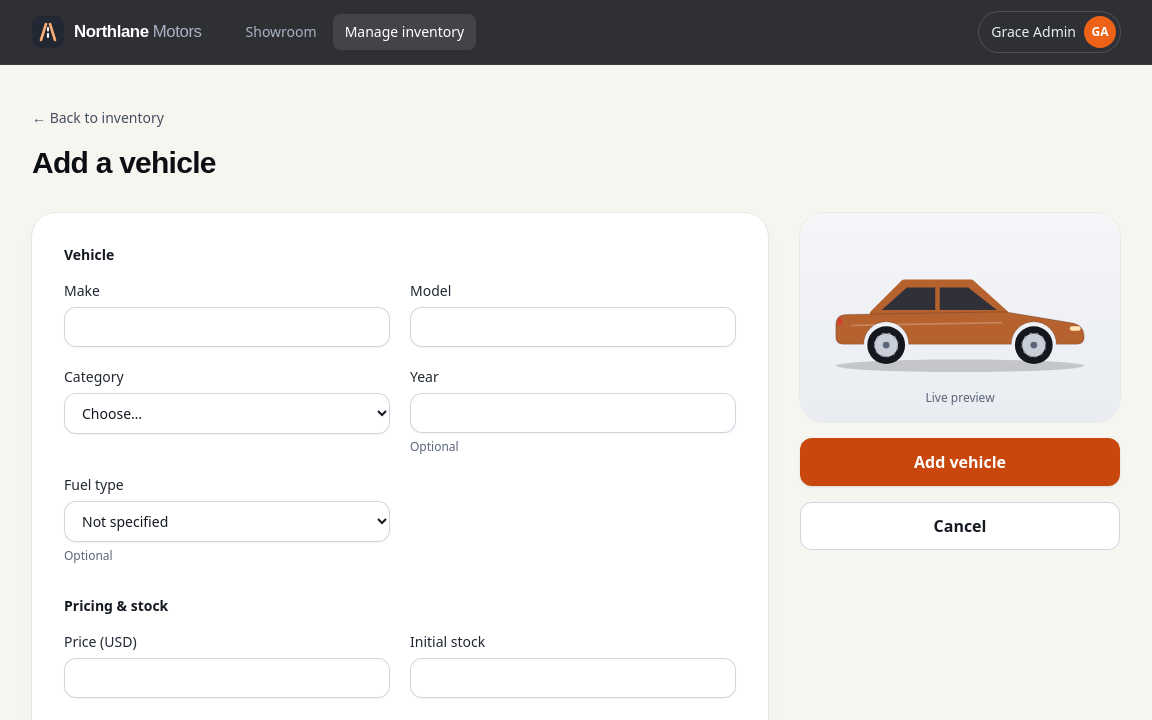
VehicleFormPage — add › shows server-side validation errors next to the right fields
Type "Kia" into the field labelled "Make" at (227, 327), box [64,307,390,347]
Type "EV9" into the field labelled "Model" at (573, 327), box [410,307,736,347]
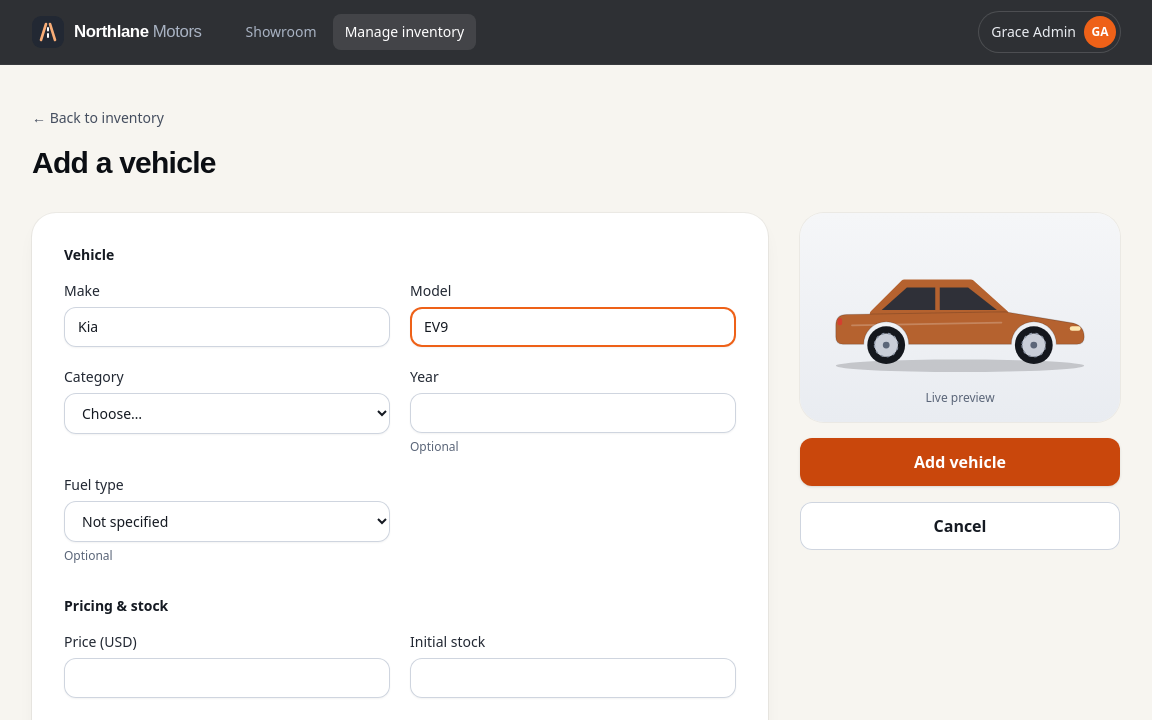
Select "SUV" in the dropdown labelled "Category" at (227, 414), box [64,393,390,434]
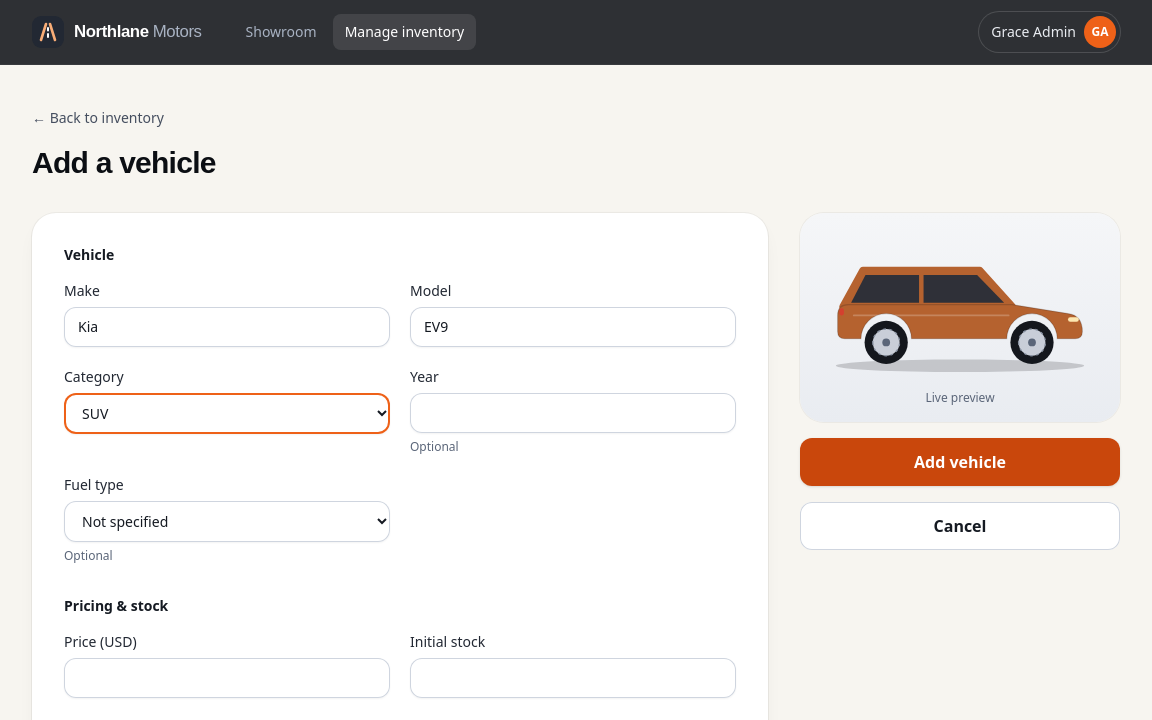
Type "50000" into the number field labelled "Price (USD)" at (227, 678), box [64,658,390,698]
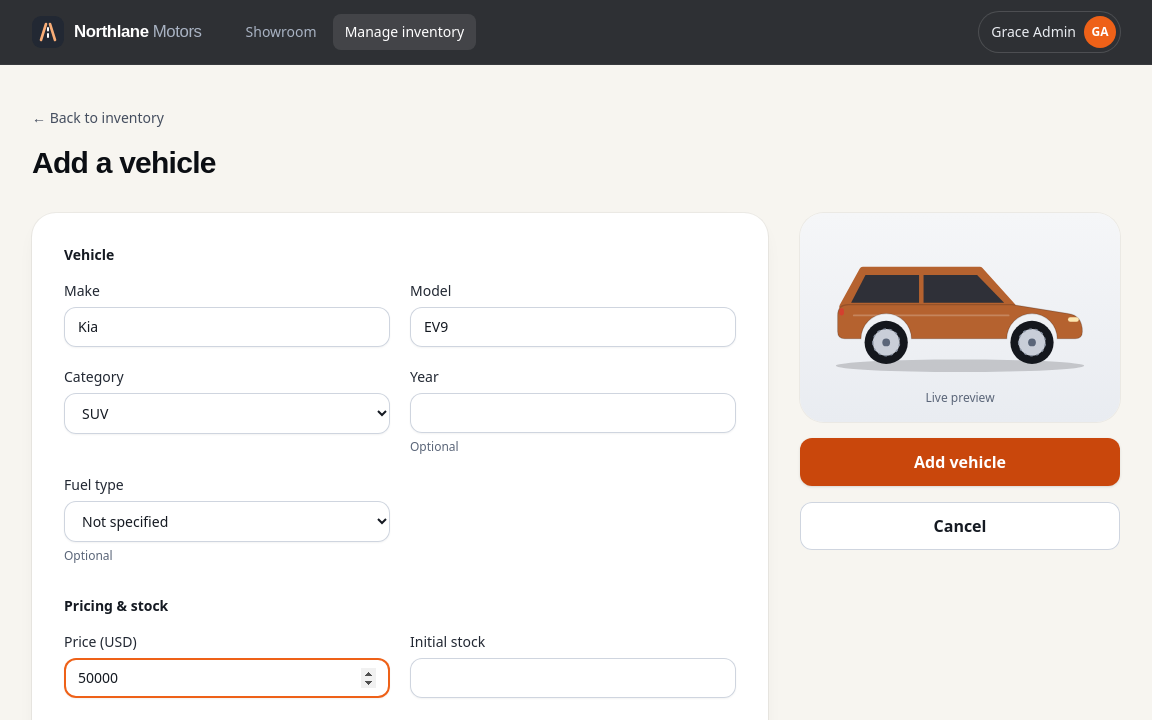
Type "1" into the number field labelled "Initial stock" at (573, 678), box [410,658,736,698]
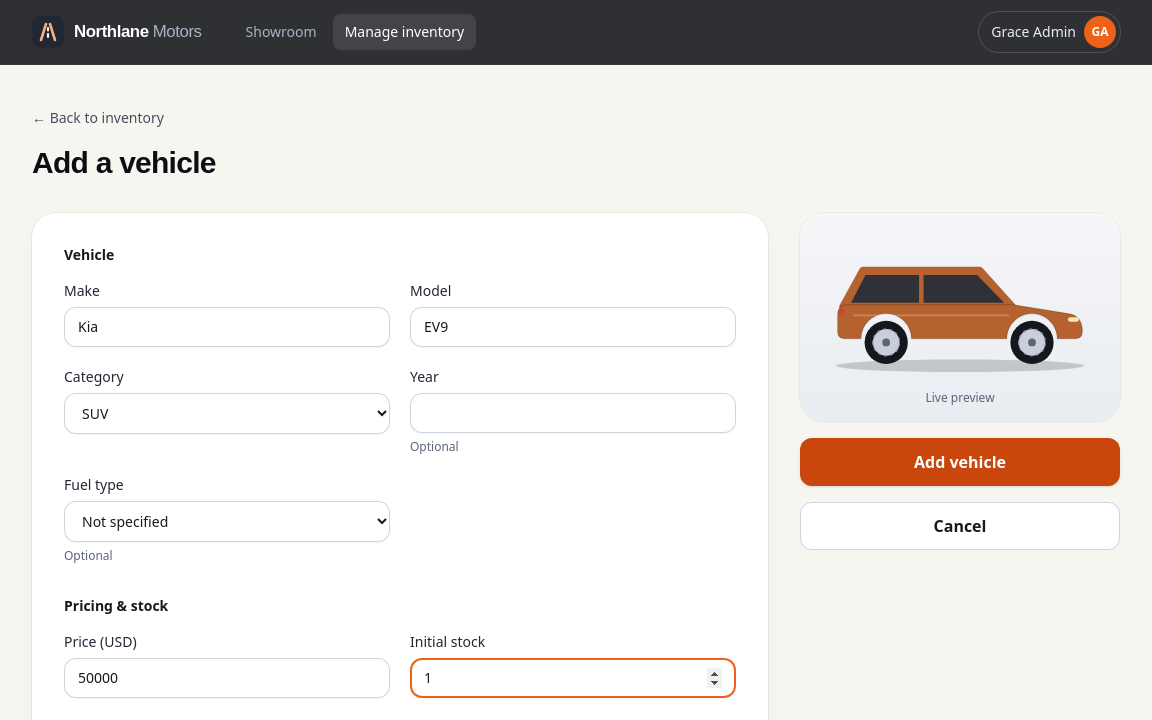
Type "2026" into the number field labelled "Year" at (573, 413), box [410,393,736,433]
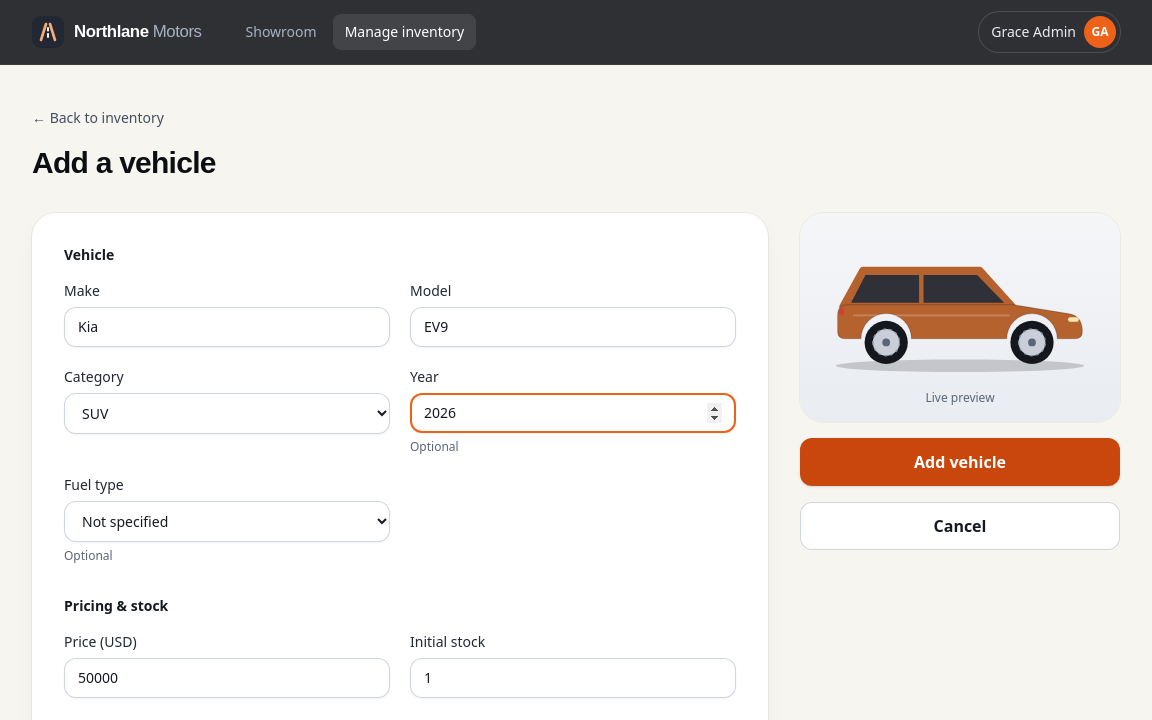
Click the button "Add vehicle" at (960, 462), box [800,438,1120,486]
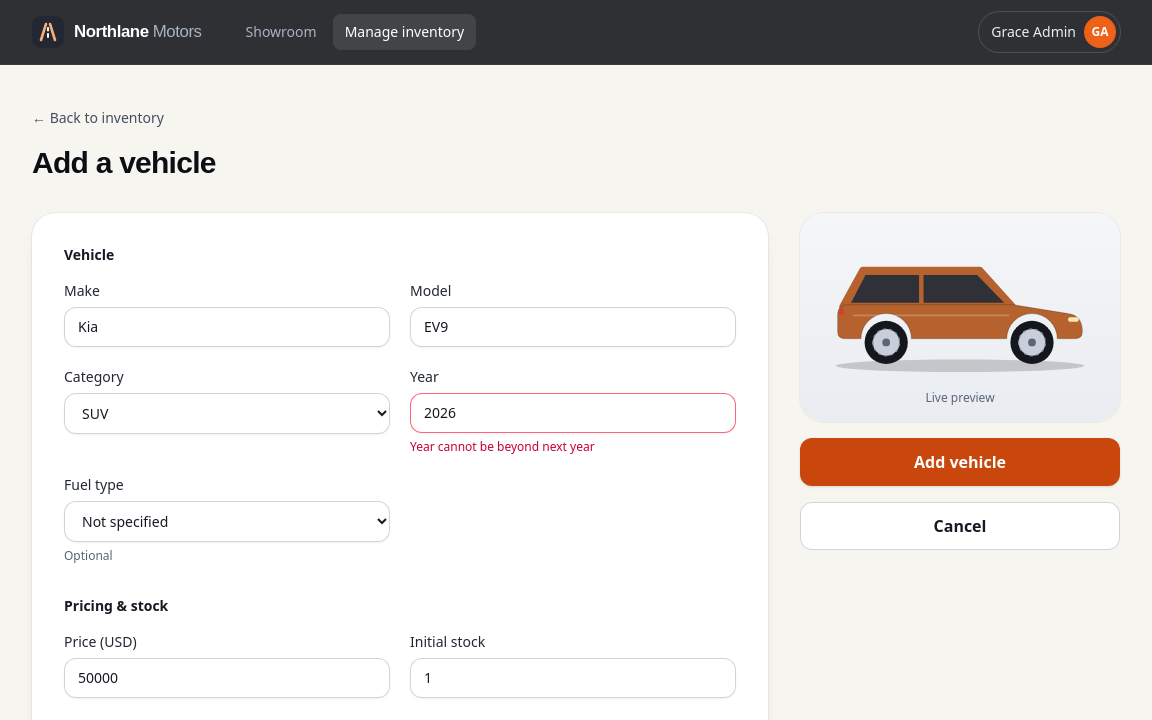
Now the text "Year cannot be beyond next year" is shown, box [410,438,595,455]
